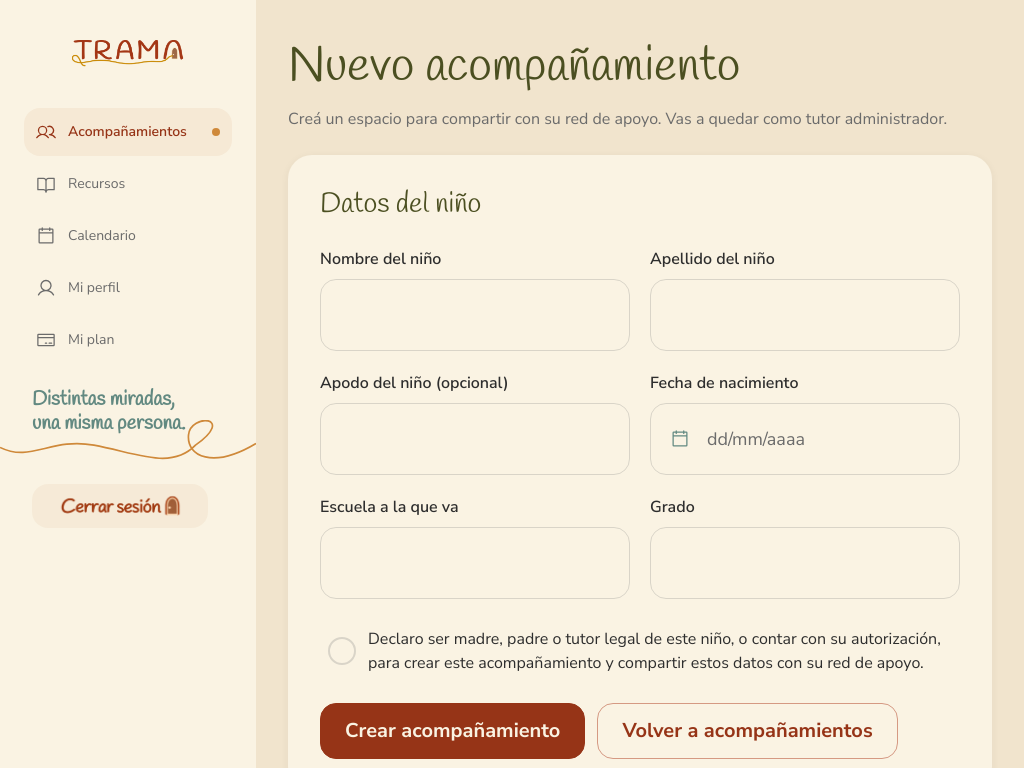
Test case: Alta real de acompañamiento › muestra error 400 sin fingir un guardado ni perder valores
The width and height of the screenshot is (1024, 768).
Type "Luz ficticia" into the field named "Nombre del niño" below "Nombre del niño".
click(475, 315); type("Luz ficticia")  # box x1=320 y1=279 x2=630 y2=351
Type "Ejemplo" into the field named "Apellido del niño" below "Apellido del niño".
click(805, 315); type("Ejemplo")  # box x1=650 y1=279 x2=960 y2=351
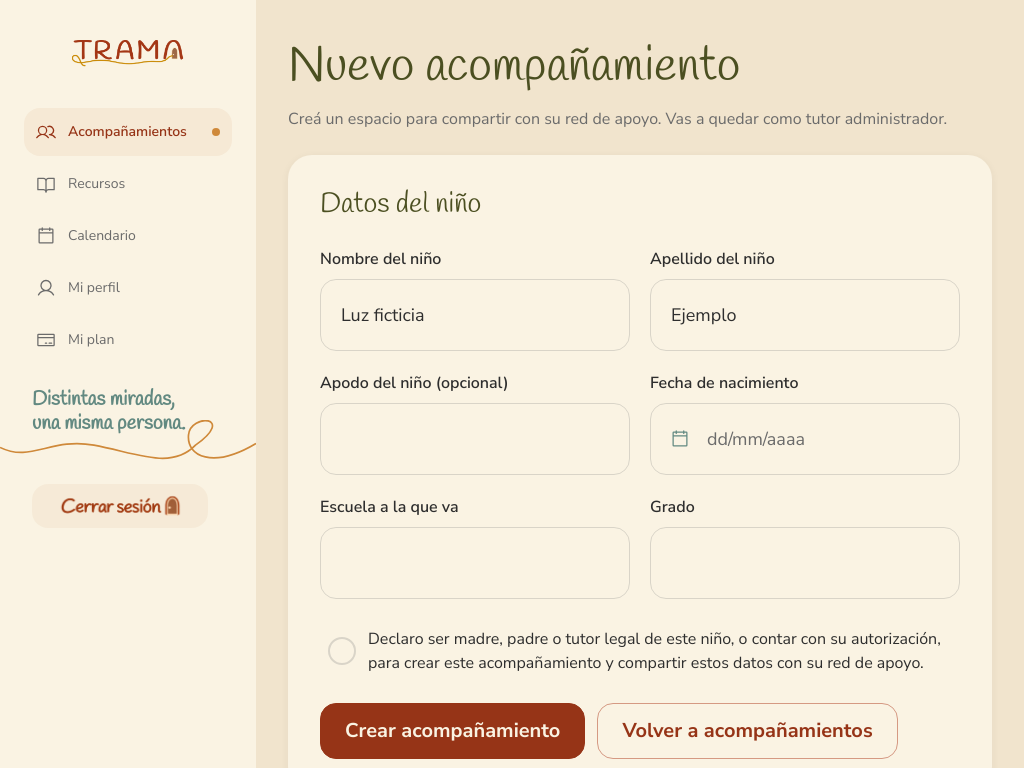
Type "Escuela ficticia" into the field named "Escuela a la que va" below "Escuela a la que va".
click(475, 563); type("Escuela ficticia")  # box x1=320 y1=527 x2=630 y2=599
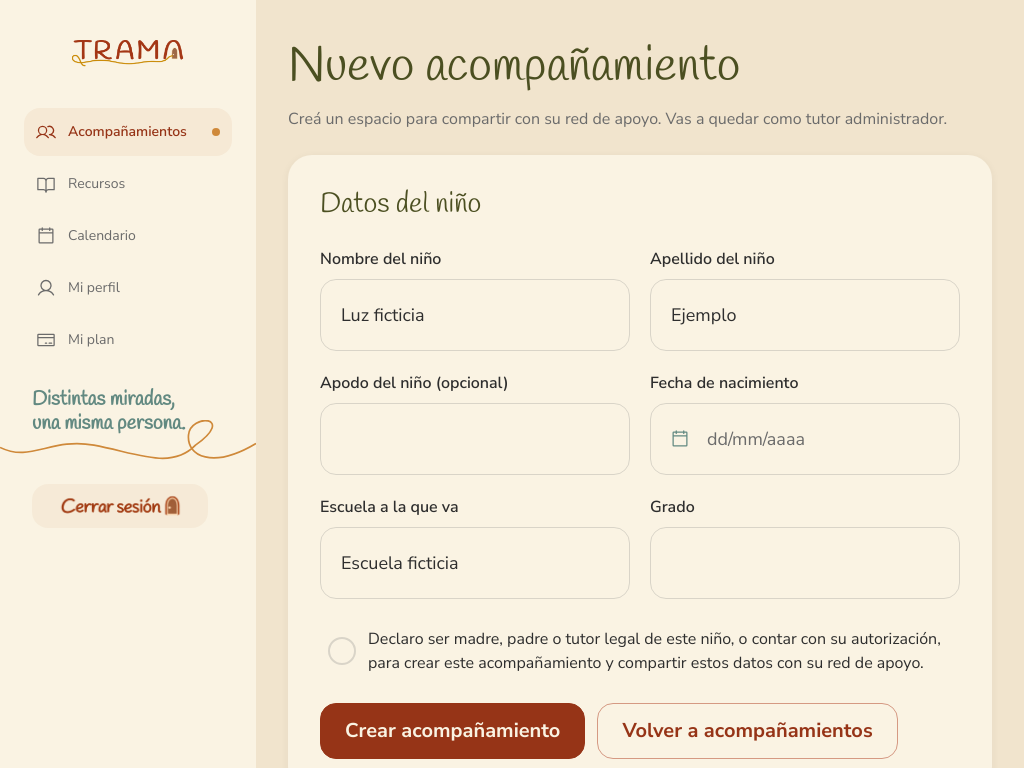
Type "2.º" into the field named "Grado" below "Grado".
click(805, 563); type("2.º")  # box x1=650 y1=527 x2=960 y2=599
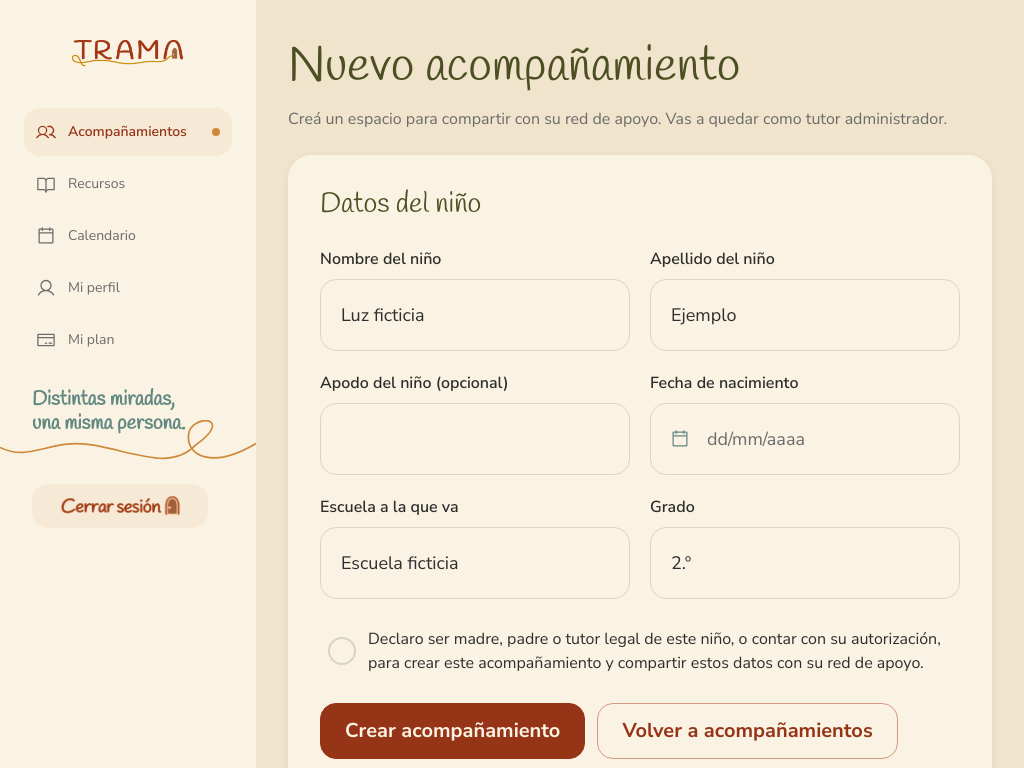
Type "2018-05-12" into the field named "Fecha de nacimiento".
click(805, 439); type("2018-05-12")  # box x1=650 y1=403 x2=960 y2=475
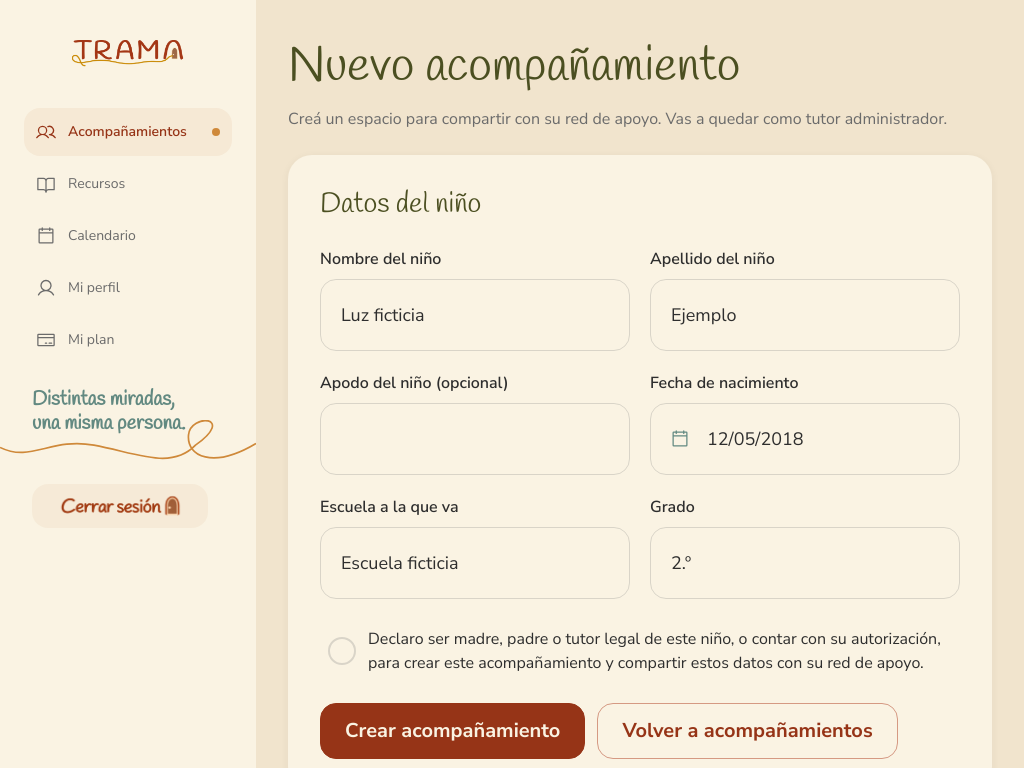
Click the checkbox.
click(640, 651)  # box x1=320 y1=623 x2=960 y2=679
(page scrolled)
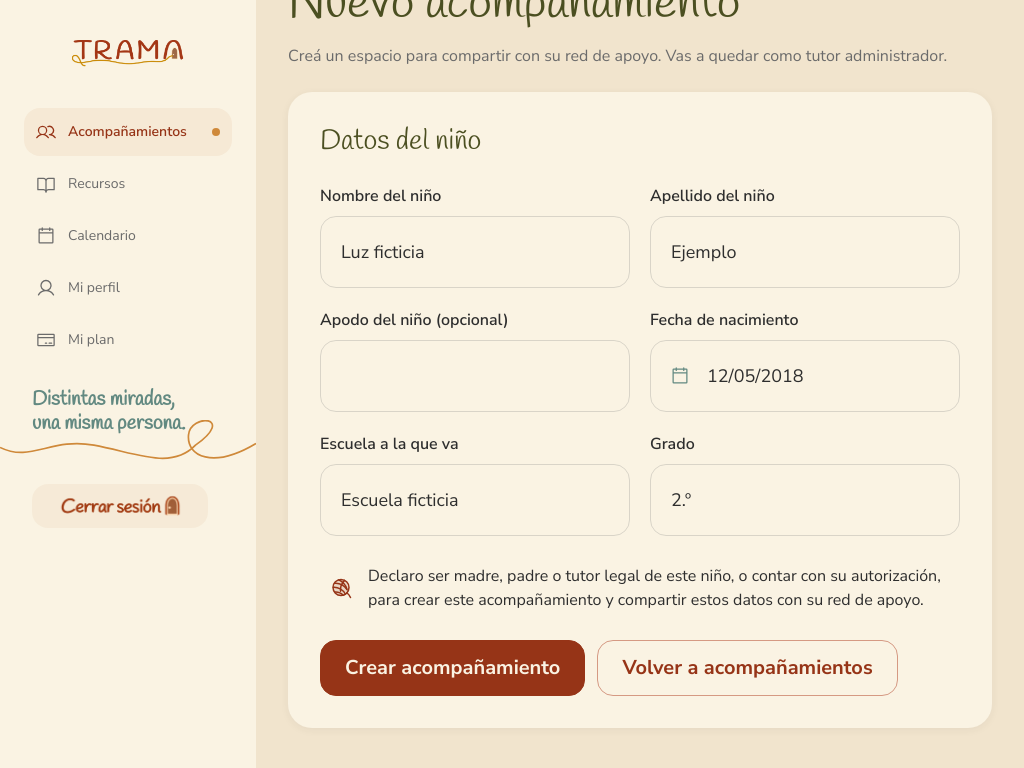
Submit the form named "Crear acompañamiento", box x1=288 y1=92 x2=992 y2=728
(page scrolled)
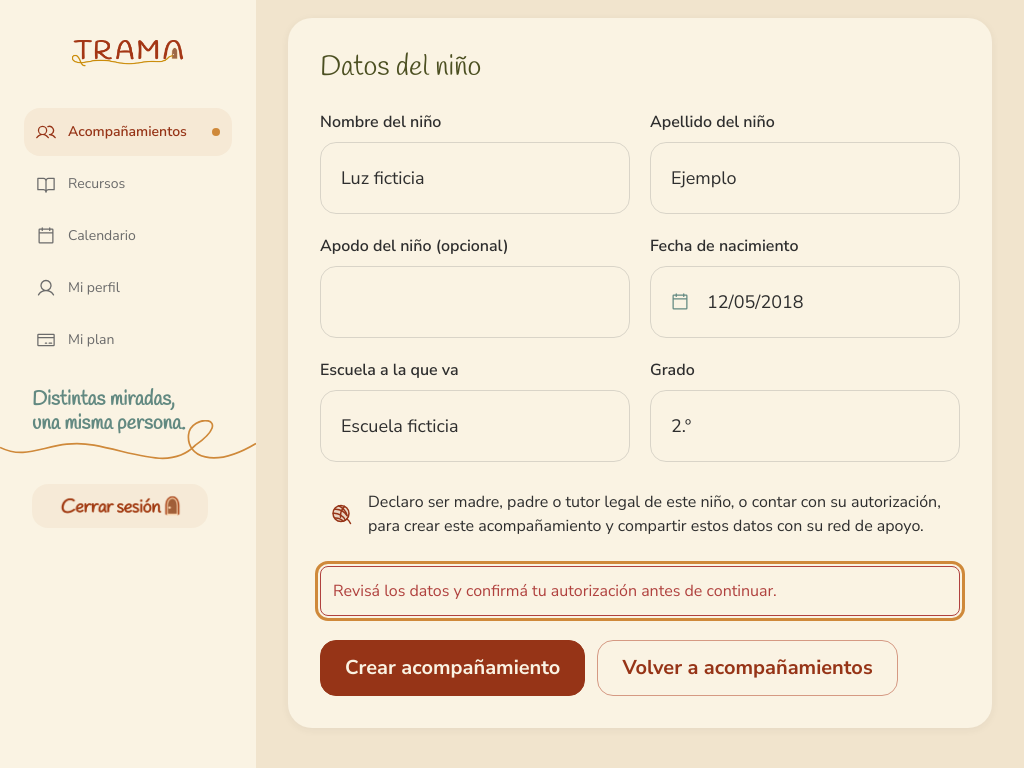
Expected: the button "Crear acompañamiento" is enabled, x1=320 y1=640 x2=585 y2=696
Expected: the message "Revisá los datos y confirmá tu autorización antes de continuar." is shown, x1=320 y1=566 x2=960 y2=616
